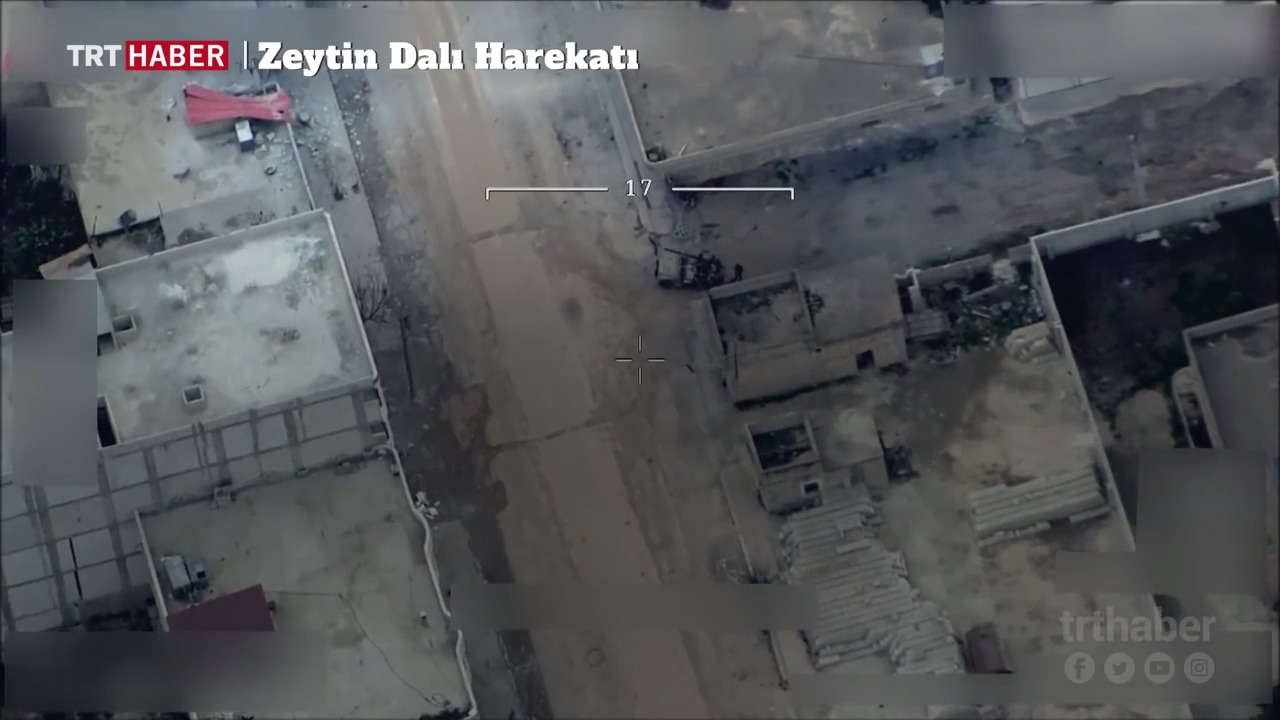arac: (650, 252, 726, 284)
bina: (740, 406, 885, 517)
insan: (730, 258, 746, 286)
